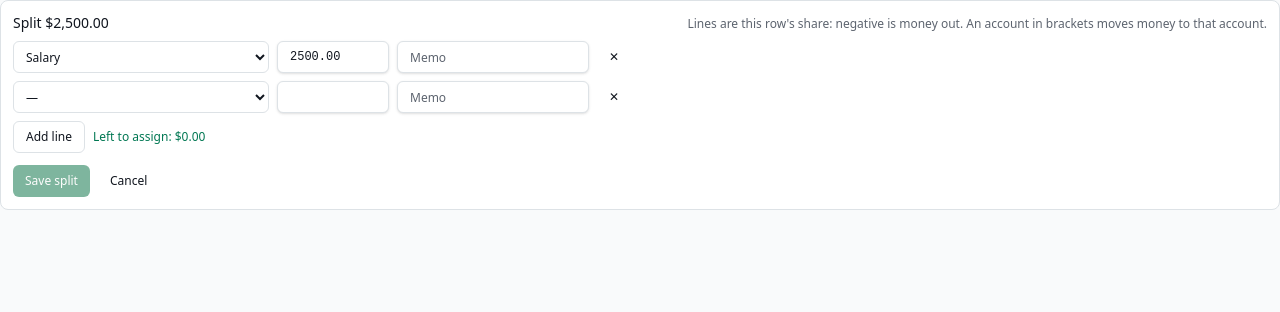
SplitEditor (#590) › lists bank rows for an account line and sends the checked ones as backing
The width and height of the screenshot is (1280, 312).
Replace the text in the field named "Line 1 amount" with "3100" at (333, 57), box [277,41,389,73]
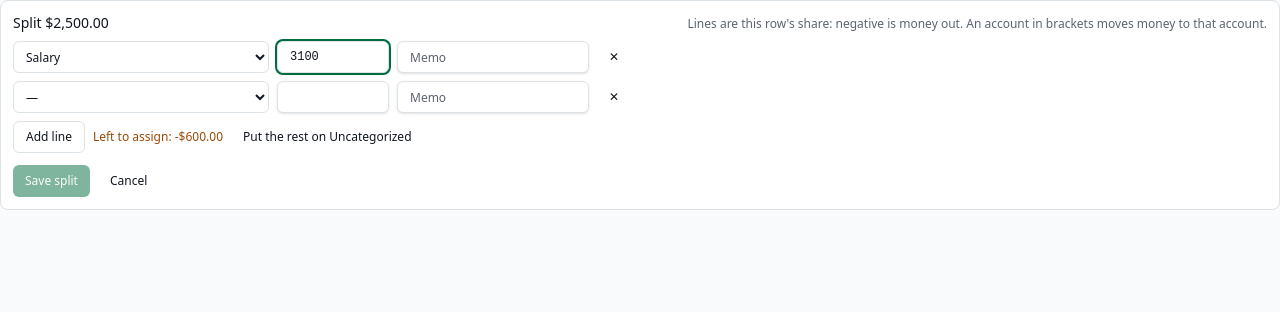
Select "Transfer to Example 401(k)" in the dropdown named "Line 2 category or account" at (141, 97), box [13,81,269,113]
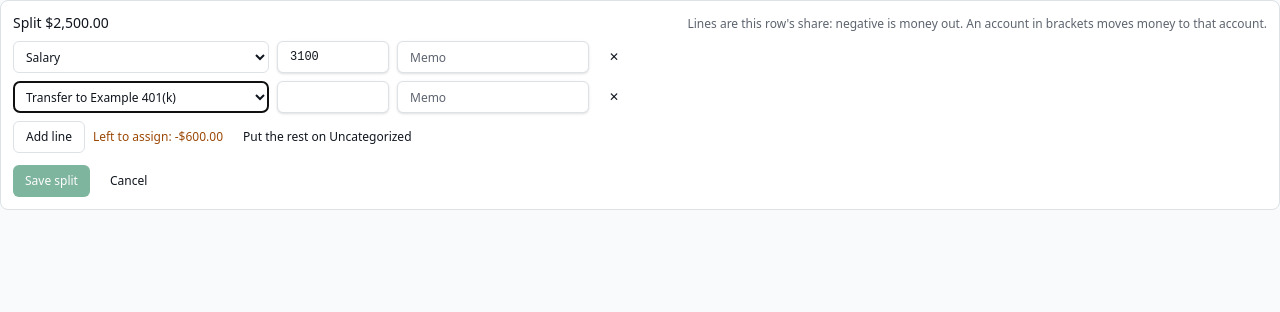
Type "-600" into the field named "Line 2 amount" at (333, 97), box [277,81,389,113]
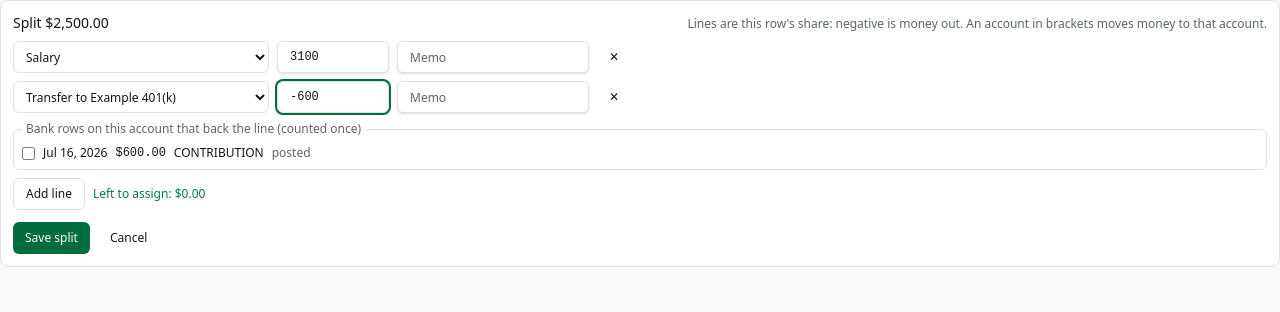
Click the checkbox at (28, 153), box [22,146,35,160]
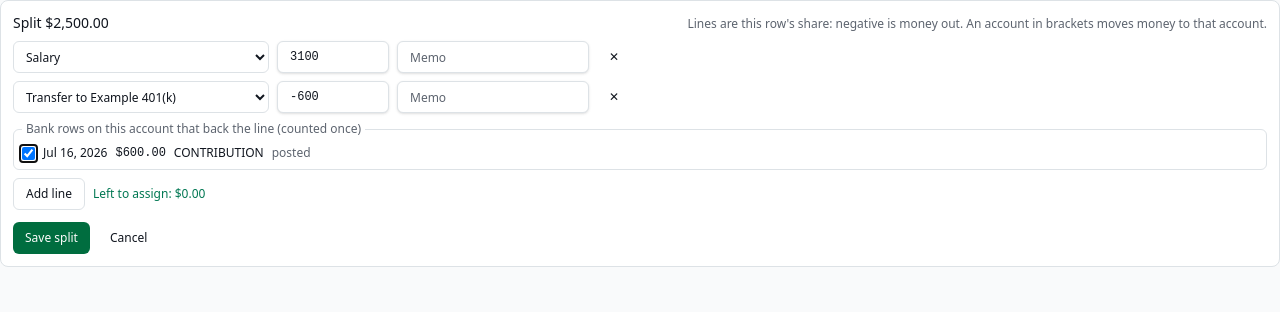
Click the button "Save split" at (52, 238), box [13,222,90,254]
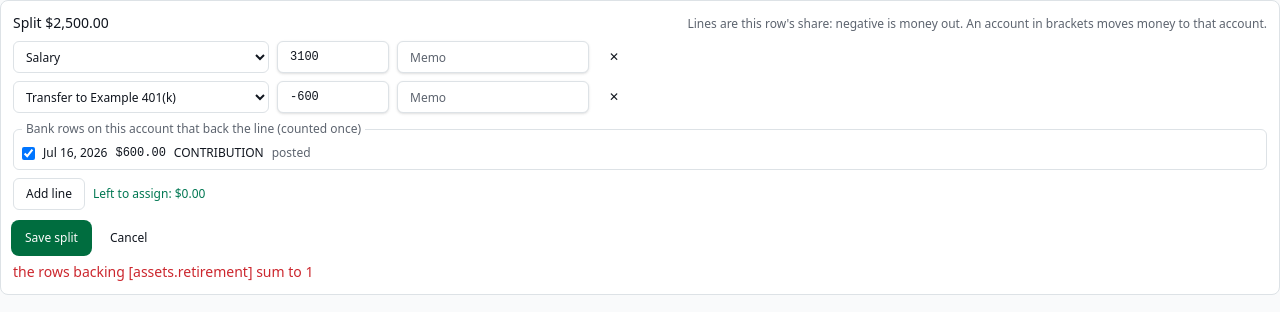
Expected: the message "the rows backing [assets.retirement] sum to 1" is shown, [13,262,313,281]
